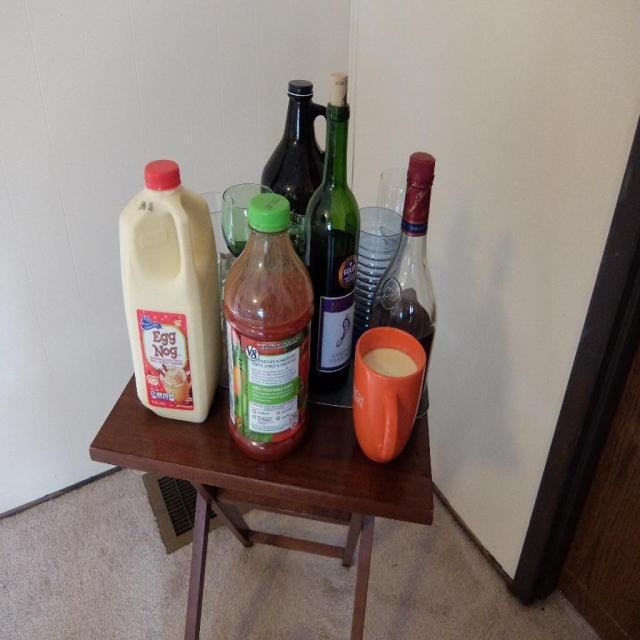Milk: (365, 348, 419, 380)
